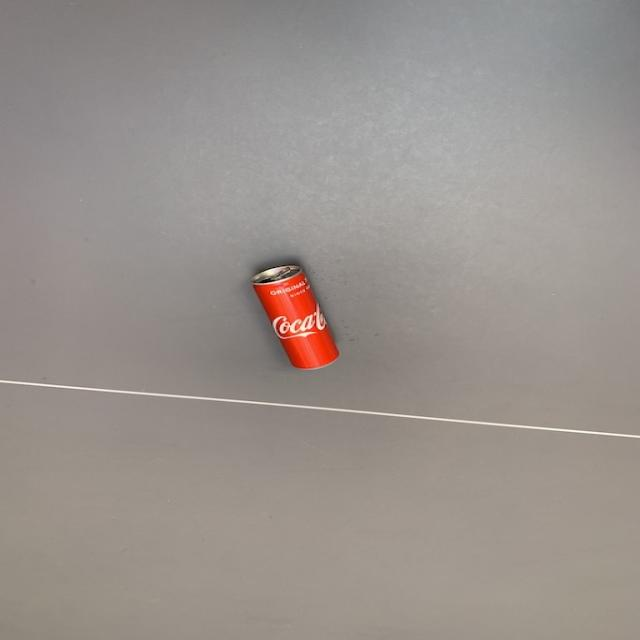litter: (238, 260, 348, 376)
